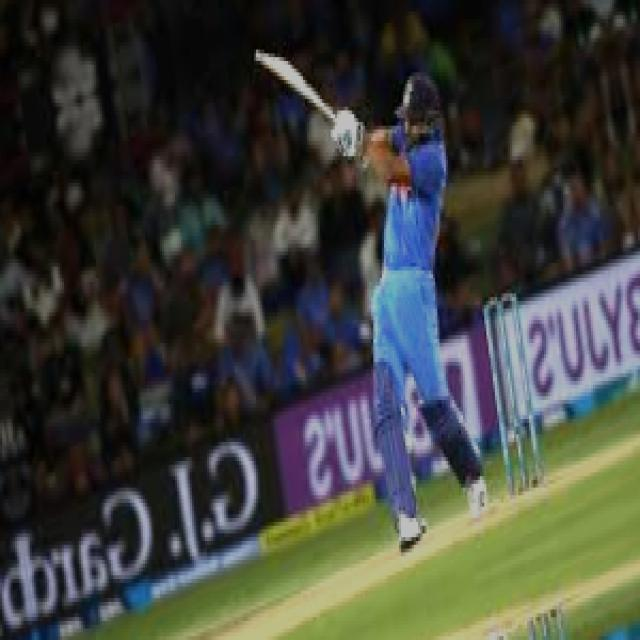toe: (252, 34, 271, 76)
